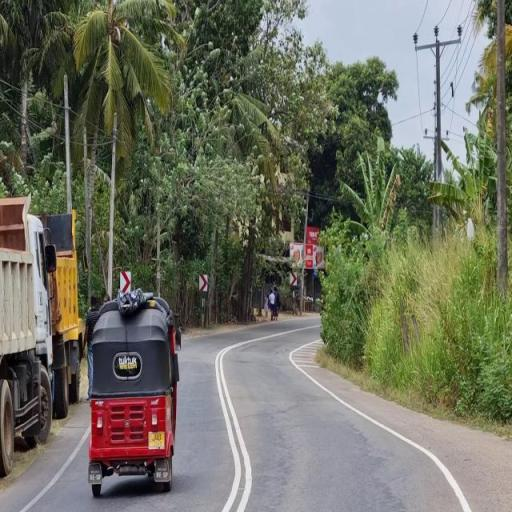double_white_line: (294, 338, 470, 512), (214, 341, 258, 511), (19, 428, 87, 512)
